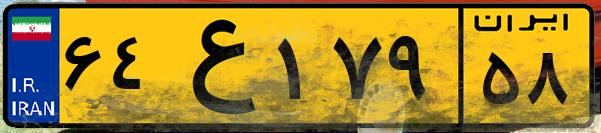1: (270, 28, 330, 110)
4: (110, 28, 158, 98)
5: (475, 38, 525, 113)
6: (57, 26, 110, 100)
7: (330, 28, 385, 110)
8: (525, 38, 570, 115)
9: (385, 28, 445, 110)
ع: (158, 12, 270, 120)
